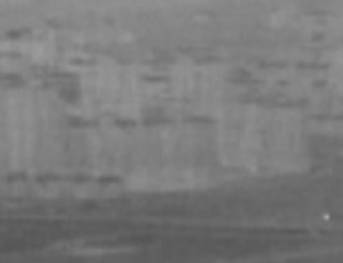Target: (324, 214, 328, 219)
